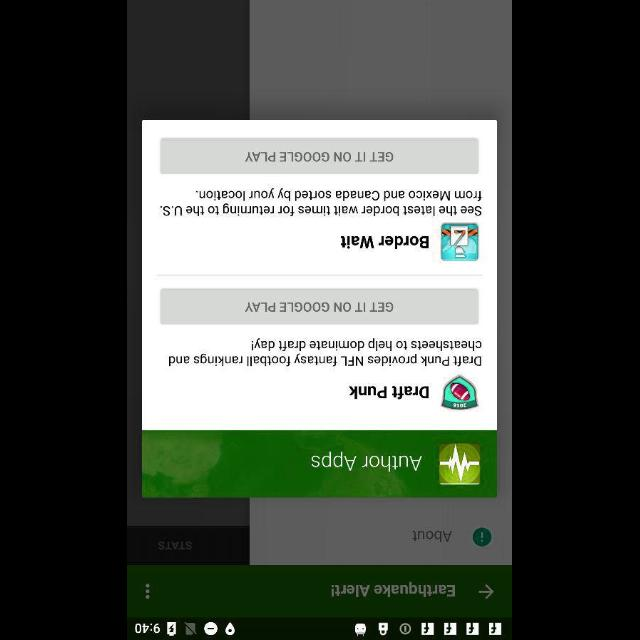icon: (472, 526, 492, 546), (478, 582, 496, 598), (146, 582, 150, 598)
image: (438, 441, 482, 485), (442, 223, 478, 260), (442, 374, 478, 410)
panel: (142, 120, 498, 498)
text: (170, 338, 482, 367), (161, 188, 483, 216), (312, 451, 422, 472), (332, 581, 456, 597), (340, 236, 430, 250), (348, 386, 429, 400), (412, 530, 452, 542), (160, 540, 194, 548)
textbutton: (161, 138, 479, 174), (161, 288, 479, 324)
uppertaskbar: (128, 617, 512, 639)
